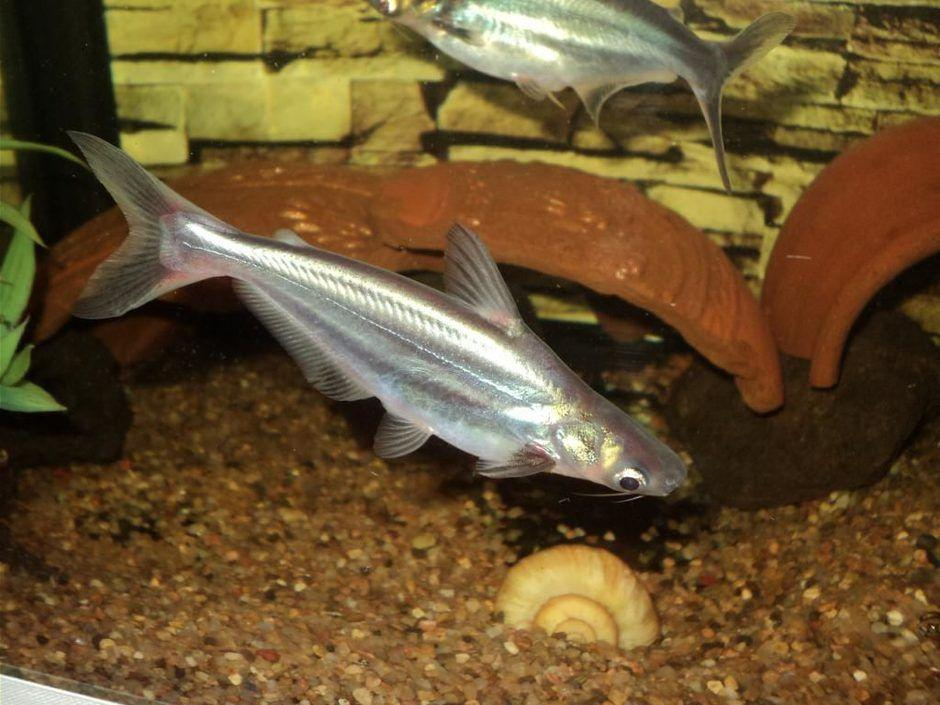Pangasius: (64, 117, 692, 502)
